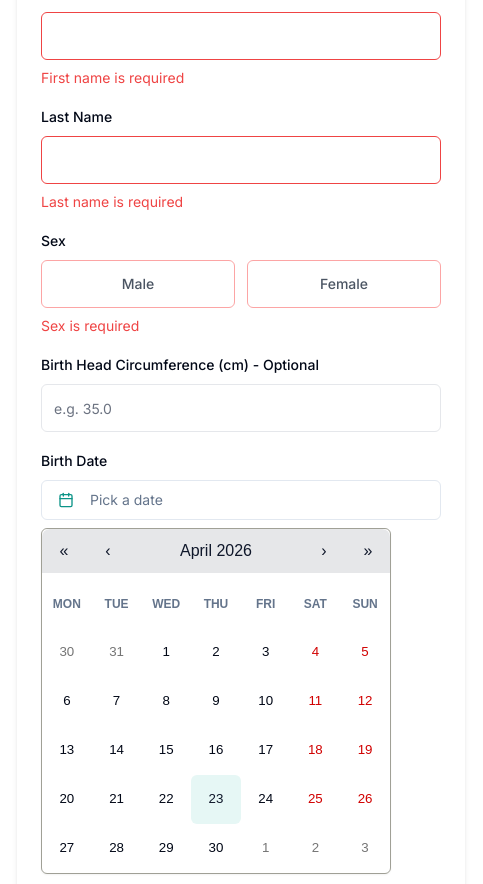
Test: NewPatientForm › selects sex Male and clears sex error
Earlier steps of the test are not shown.
(page scrolled)
Expected: the text "Sex is required" is shown, x1=41 y1=317 x2=139 y2=334
What coordinates should you click on to do the following:
click the button "Male"
I would click on:
 (138, 284)
Its box is x1=41 y1=260 x2=235 y2=308.
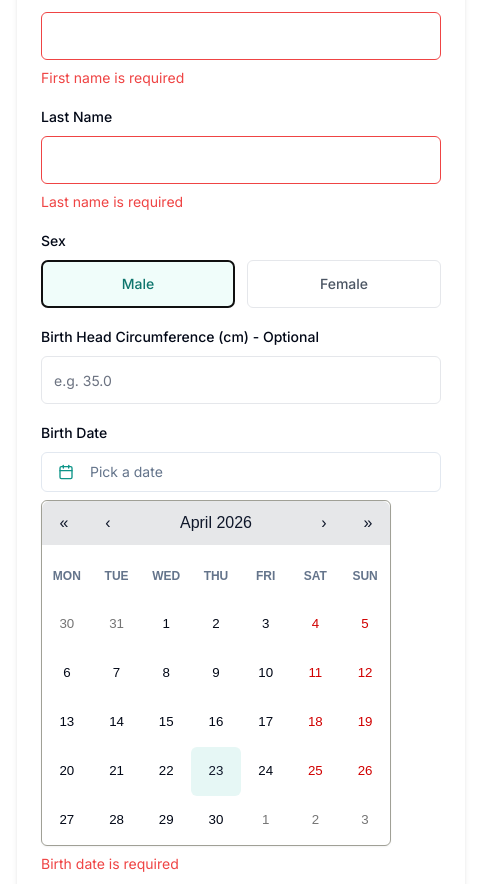
Now the text "Sex is required" is gone
